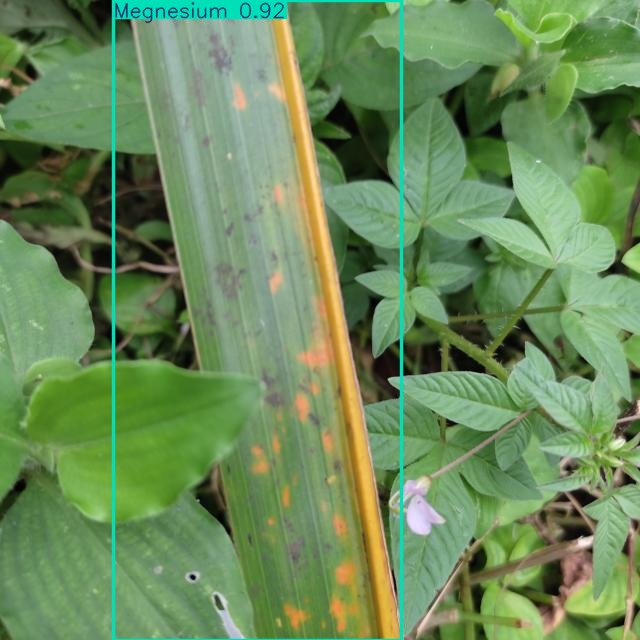Megnesium: (114, 0, 402, 640)
